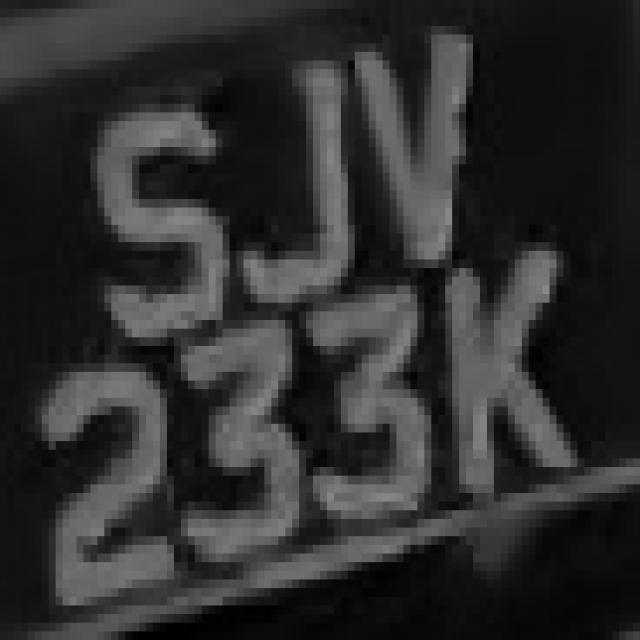2: (0, 4, 2, 8)
3: (299, 259, 438, 545), (174, 337, 313, 571)
J: (216, 43, 362, 329)
K: (418, 259, 592, 519)
S: (76, 78, 236, 354)
V: (327, 9, 501, 302)
Z: (32, 351, 184, 608)
